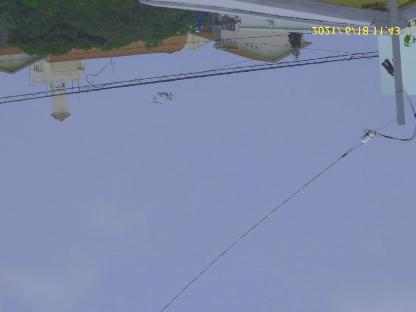Tornado: (148, 92, 176, 104)
